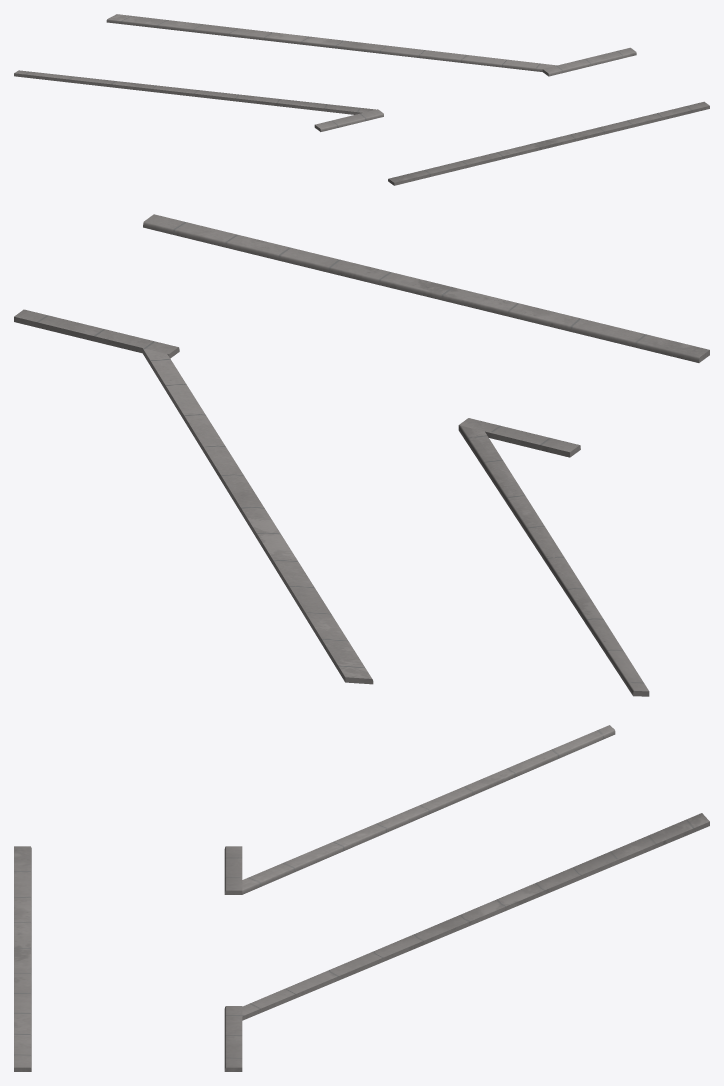
File: Slant_Intersection_SideWalks.fbx
3 renders of one model, top to bottom at view 1: azimuth 30°, elevation 25°; view 2: azimuth 150°, elevation 25°; view 3: azimuth 270°, elevation 25°, orthographic. The views are drawn at different scales.
Parts seen in each view (by area): view 1: Long_SideWalks002; view 2: Long_SideWalks002; view 3: Long_SideWalks002.
Part boxes in pixels (<box>): Long_SideWalks002: <box>14,14,709,185</box>; Long_SideWalks002: <box>14,214,709,696</box>; Long_SideWalks002: <box>14,725,709,1071</box>.
Size of the model in its own units: 2011 by 1726 by 11.98.
